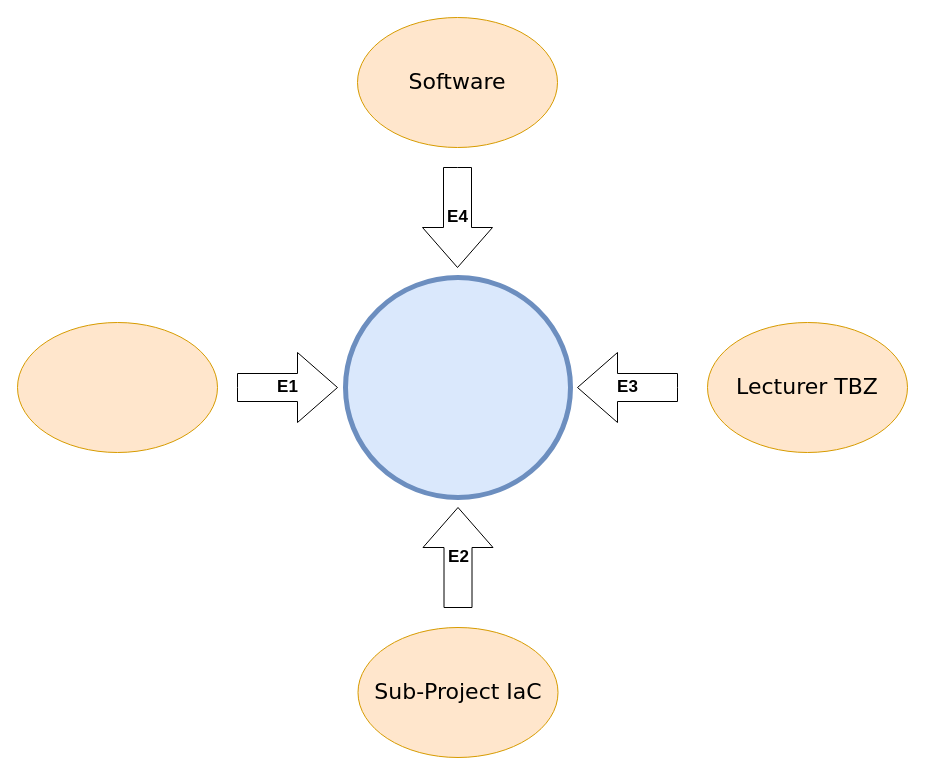
The diagram is 925 pixels wide and 775 high, and some of its shapes have lost their labels. Each missing label, with the box of its shape:
Cloud Provider: (16, 322, 218, 452)
System Boundary: (342, 274, 572, 500)
